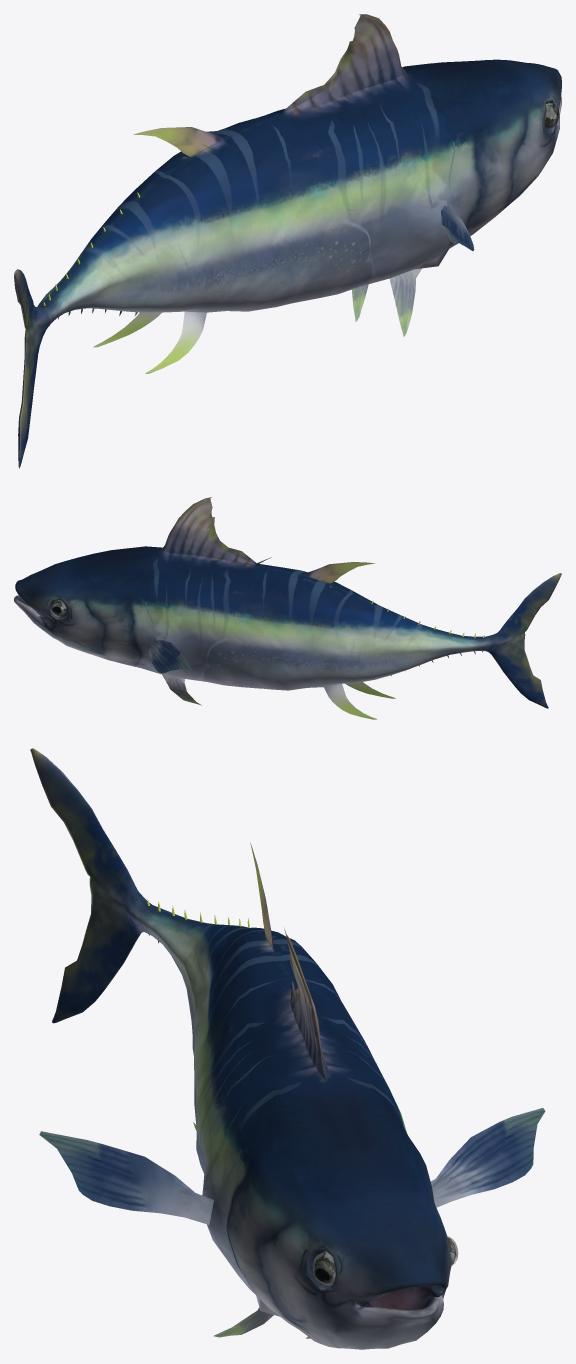
The model's file is tuna2.glb.
3 views of the same model, one above another, from view 1: azimuth 30°, elevation 25°; view 2: azimuth 150°, elevation 25°; view 3: azimuth 270°, elevation 25° (orthographic). The views are drawn at different scales.
Parts seen in each view (by area): view 1: Object_11; view 2: Object_11; view 3: Object_11.
Part boxes in pixels (x1=…): Object_11: x1=14, y1=14, x2=561, y2=468; Object_11: x1=14, y1=497, x2=561, y2=719; Object_11: x1=30, y1=748, x2=545, y2=1349.
Size of the model in its own units: 1 by 0.4356 by 0.4949.
Materials: 3 (3 with a texture image).
